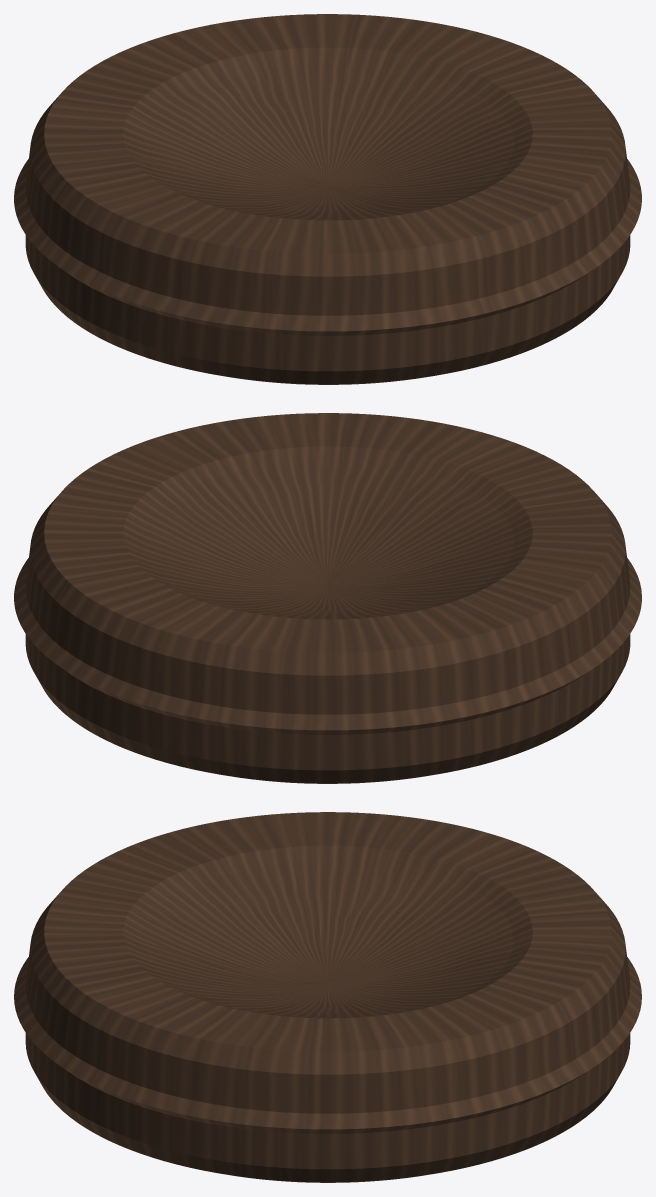
File: cradle_glaze.glb
3 views of the same model, one above another, from view 1: azimuth 30°, elevation 25°; view 2: azimuth 150°, elevation 25°; view 3: azimuth 270°, elevation 25° (orthographic).
Parts seen in each view (by area): view 1: part0; view 2: part0; view 3: part0.
Part boxes in pixels (x1=…): part0: x1=14, y1=14, x2=641, y2=384; part0: x1=14, y1=413, x2=641, y2=783; part0: x1=14, y1=812, x2=641, y2=1182.
Bounding box in the file's own units: 0.135 × 0.032 × 0.135.
Materials: 1 (1 with a texture image).
